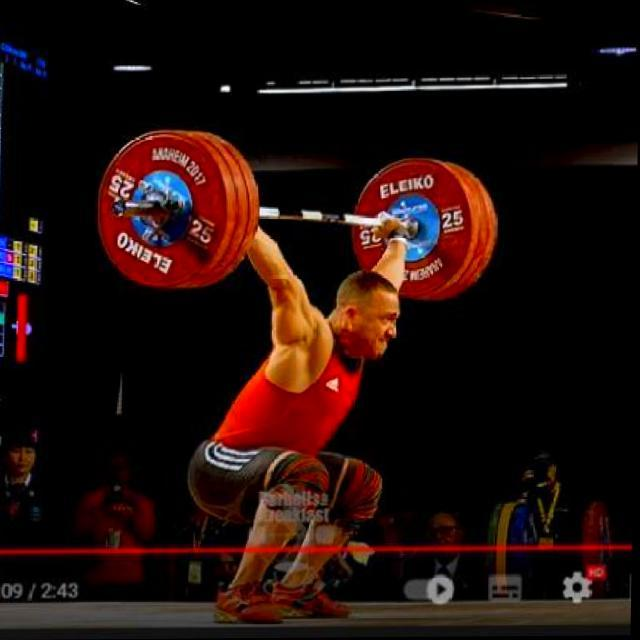barbell: (96, 129, 235, 291)
